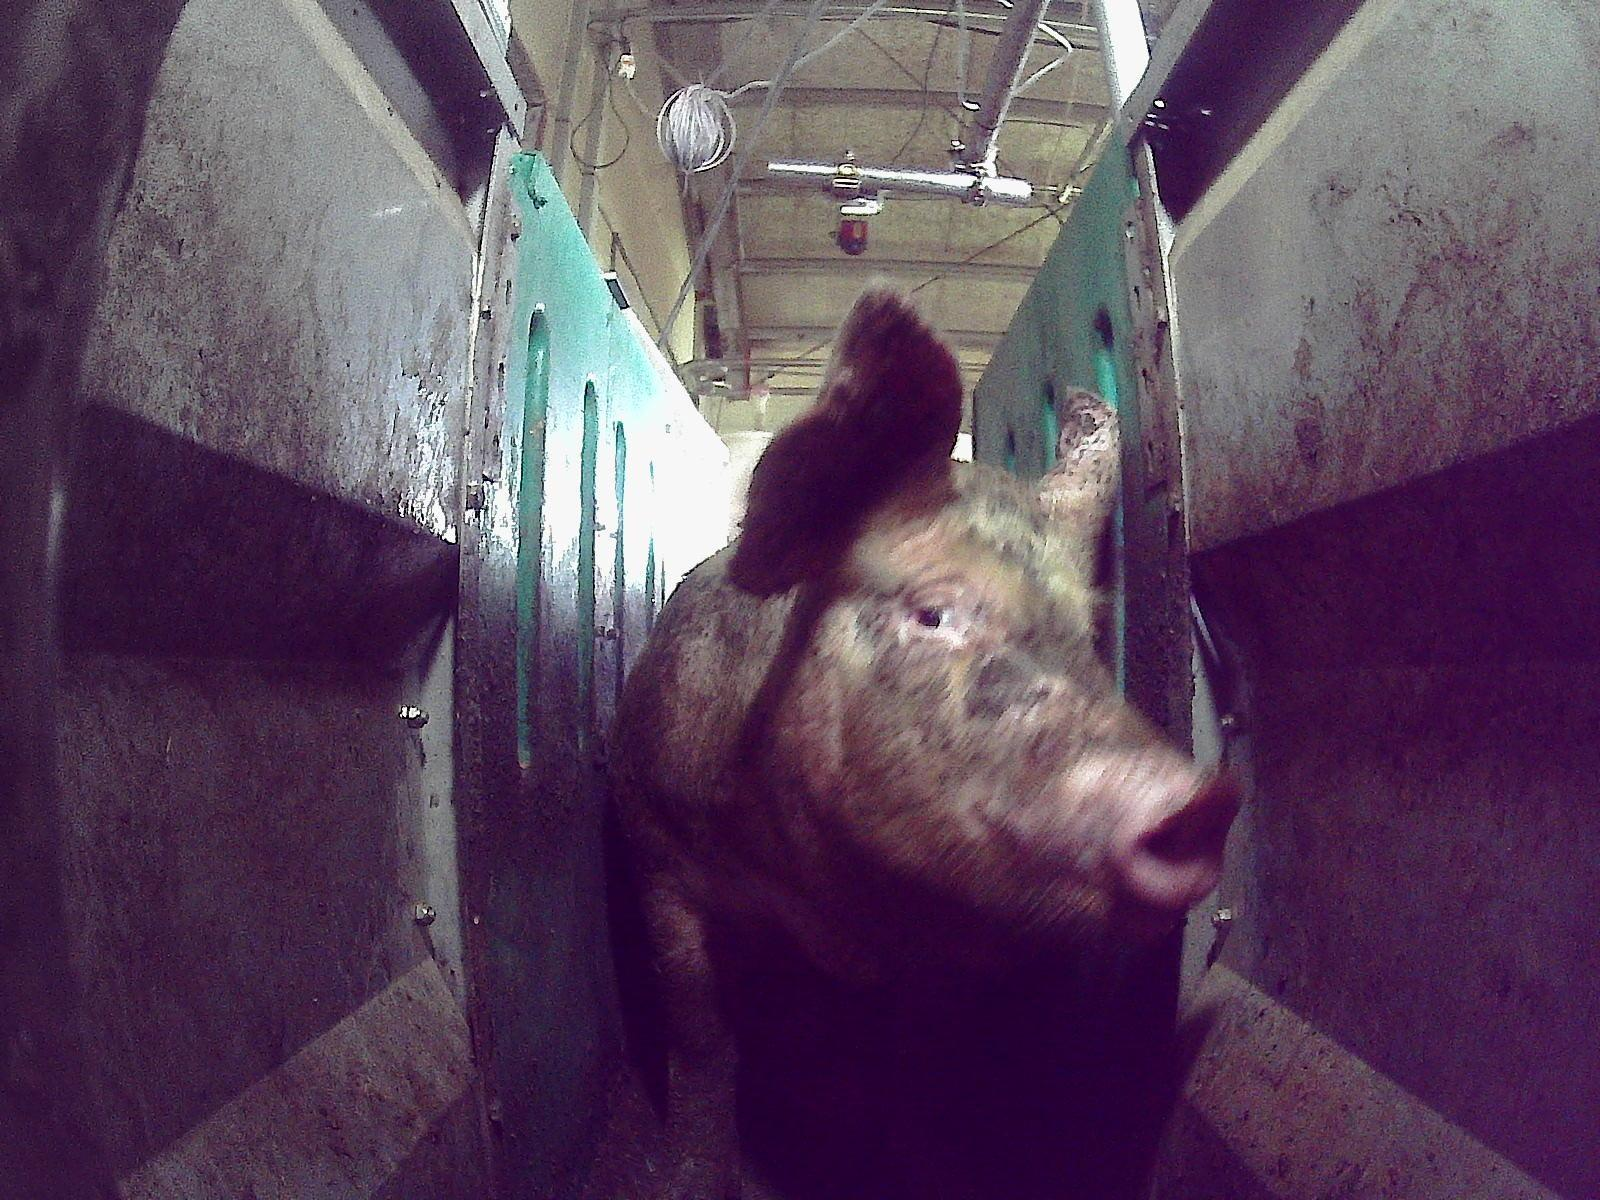Face: (737, 460, 1242, 996)
